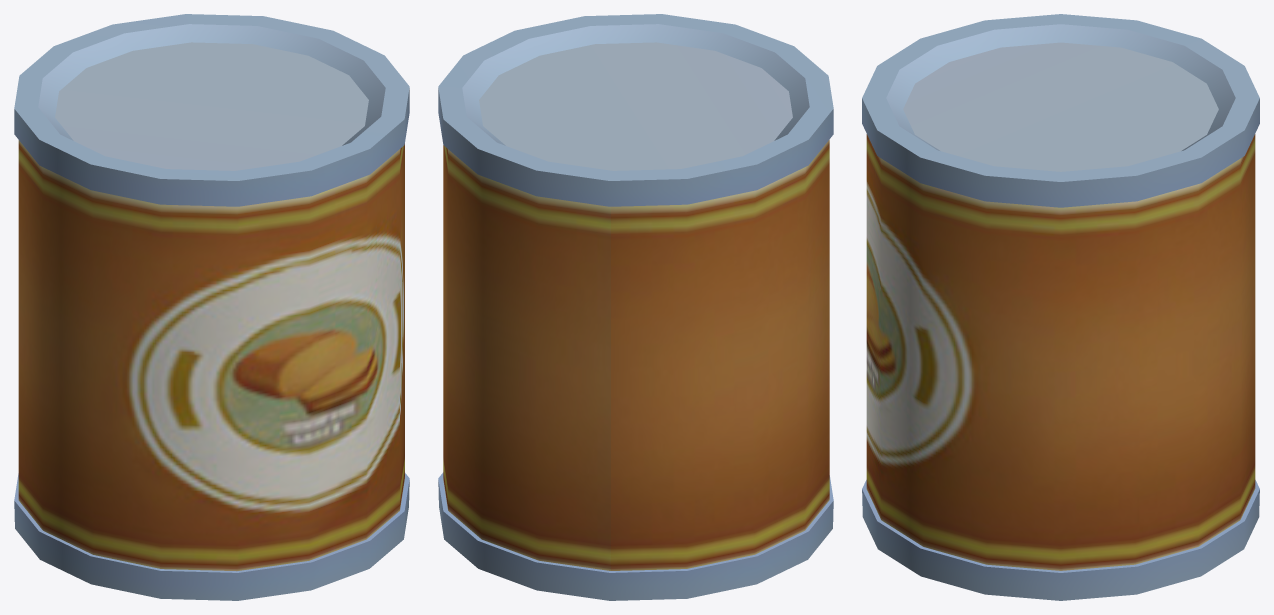
The picture shows the model from 3 angles, left to right: view 1: azimuth 30°, elevation 25°; view 2: azimuth 150°, elevation 25°; view 3: azimuth 270°, elevation 25°; orthographic projection.
Visible parts, largest first — view 1: 1-2; view 2: 1-2; view 3: 1-2.
Boxes of the visible parts, x1,y1,x2,y2 form: 1-2: [14, 14, 409, 600]; 1-2: [438, 14, 833, 600]; 1-2: [862, 14, 1259, 600].
Bounding box in the file's own units: 8.41 × 9.78 × 8.41.
